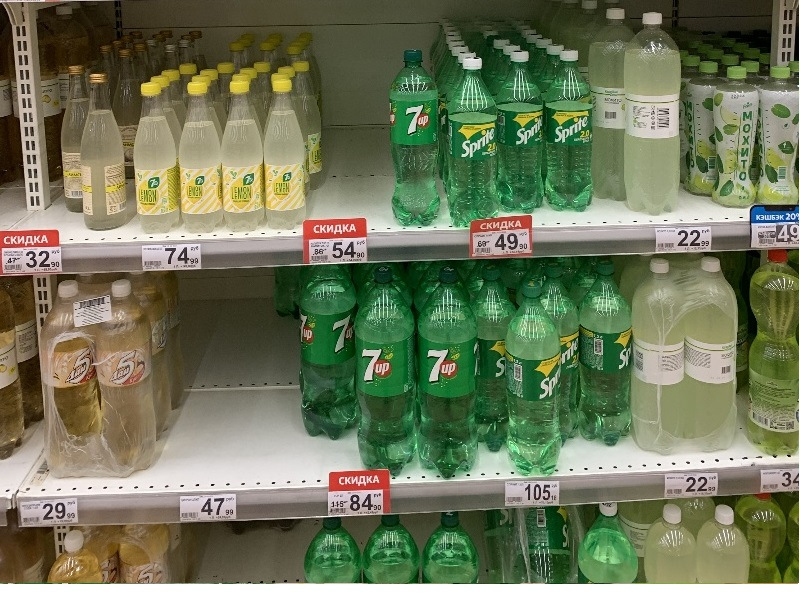lemonade: (410, 268, 481, 482), (352, 266, 419, 481), (293, 261, 370, 446), (503, 280, 567, 482), (574, 259, 638, 450), (384, 51, 452, 230), (443, 56, 504, 231), (543, 50, 597, 216), (499, 50, 548, 213)
